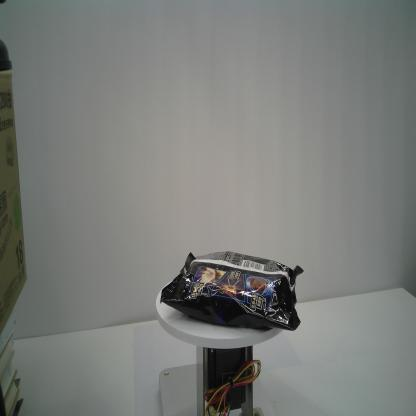Instant Noodles: (158, 248, 306, 333)
